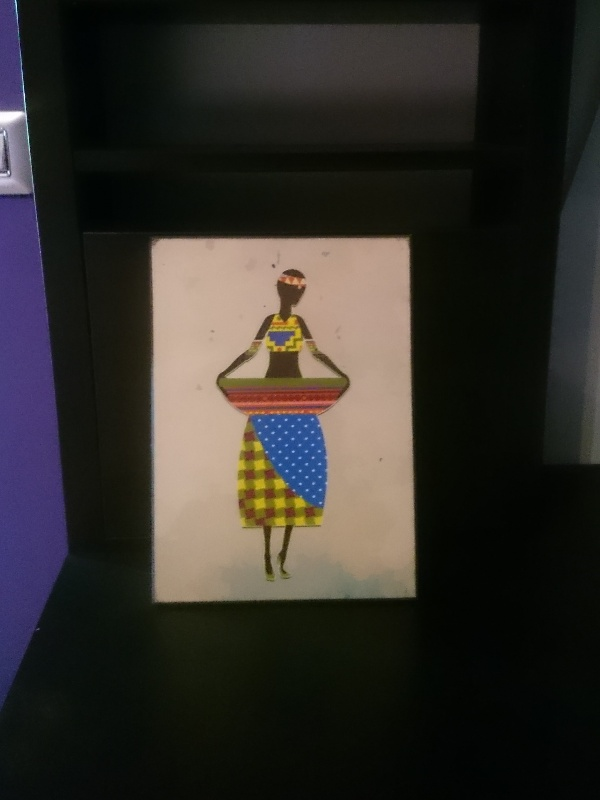my image: (153, 237, 414, 604)
